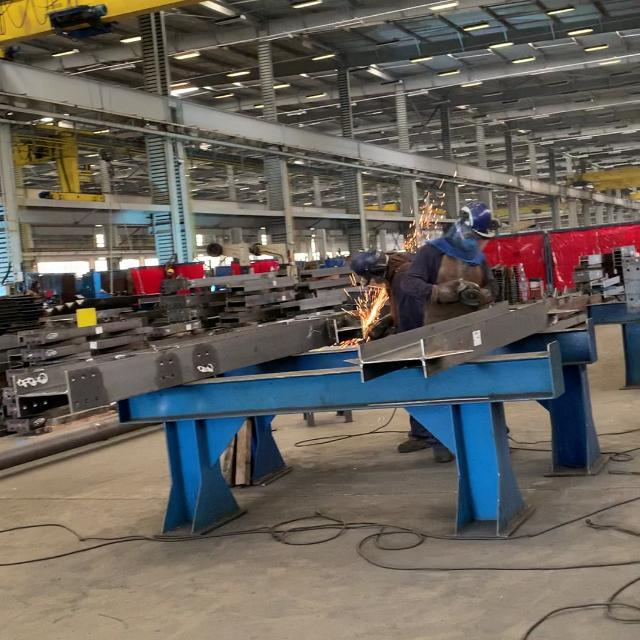face-shield: (452, 224, 497, 259)
glove: (433, 278, 465, 301)
helmet: (462, 198, 492, 228), (348, 250, 376, 276)
person: (394, 201, 493, 311)
safety-shoe: (432, 443, 458, 465), (398, 438, 428, 453)
